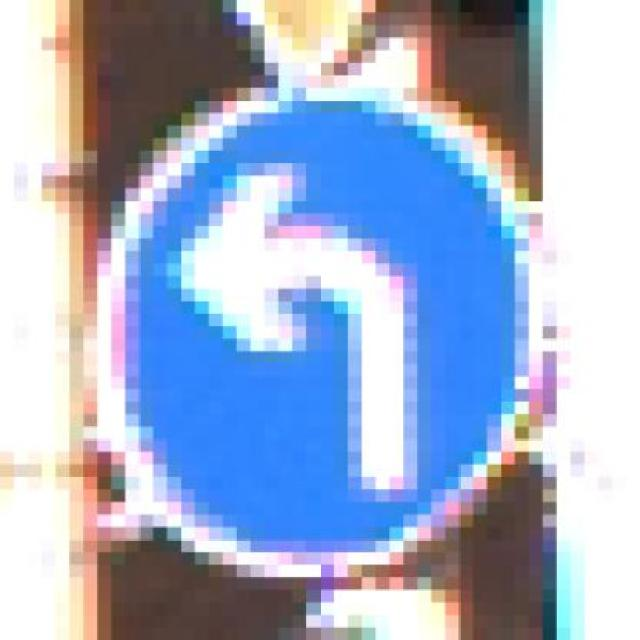Turn left ahead: (55, 87, 557, 590)
